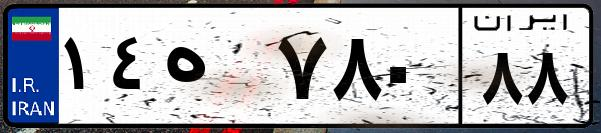0: (385, 28, 445, 110)
1: (57, 26, 110, 100)
4: (110, 28, 158, 98)
7: (270, 28, 330, 110)
8: (330, 28, 385, 110), (475, 38, 525, 113), (525, 38, 570, 115)
ه: (158, 20, 270, 120)
